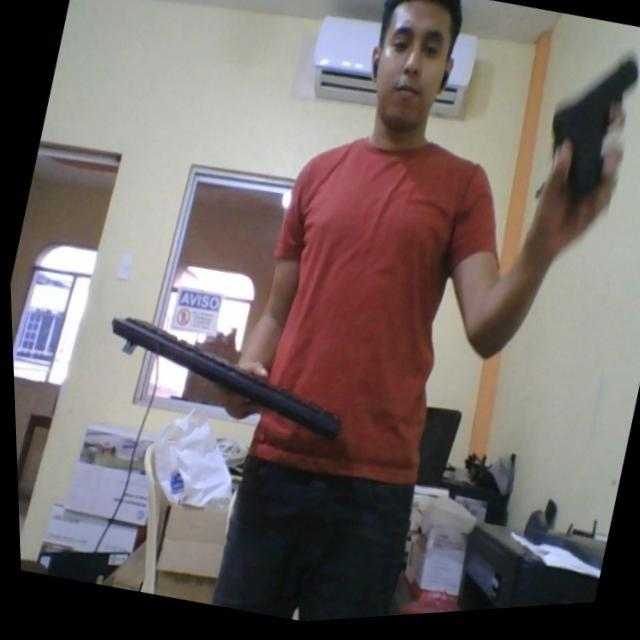weapon: (529, 42, 640, 220)
